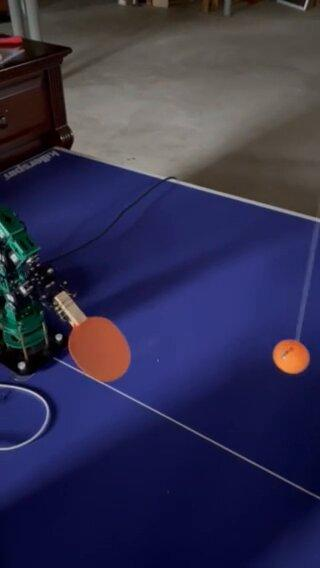oball: (272, 337, 307, 373)
